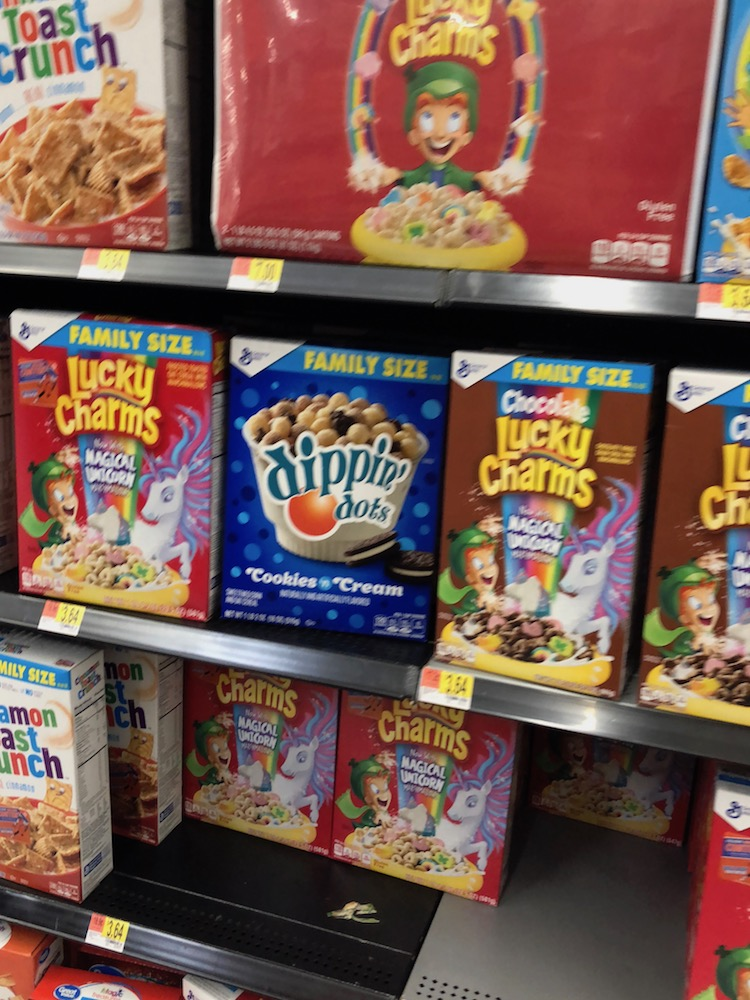Dippin Dots Cookies & Cream -568929378: (218, 343, 430, 646)
